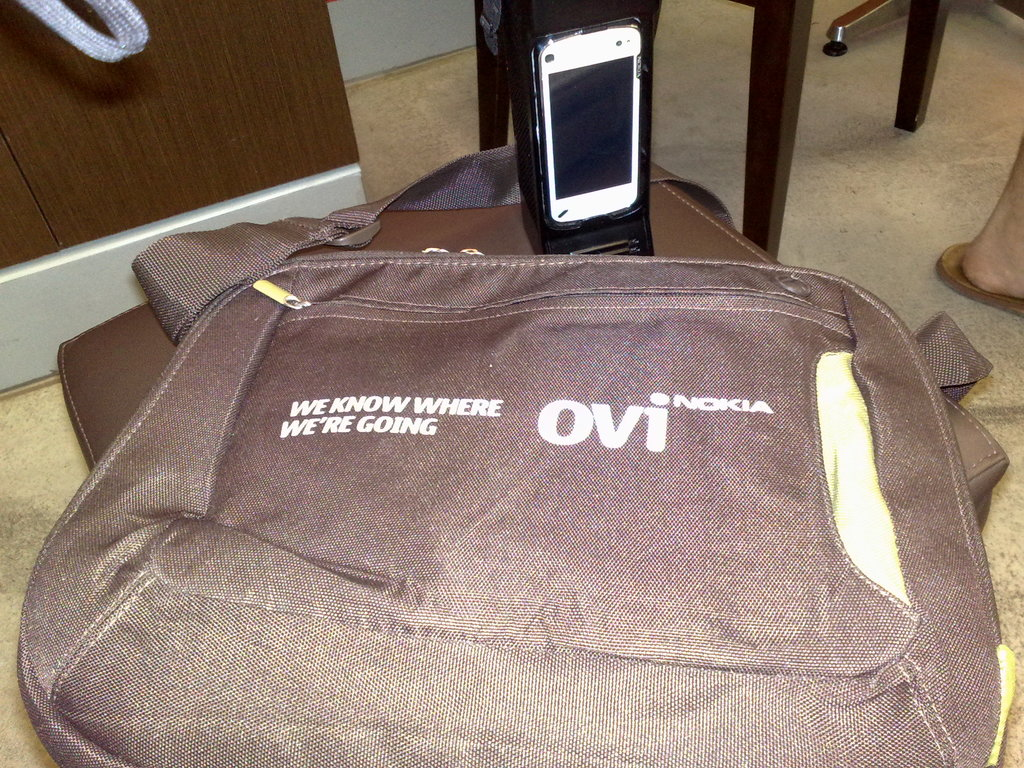Mobile-phone: (529, 25, 640, 226)
